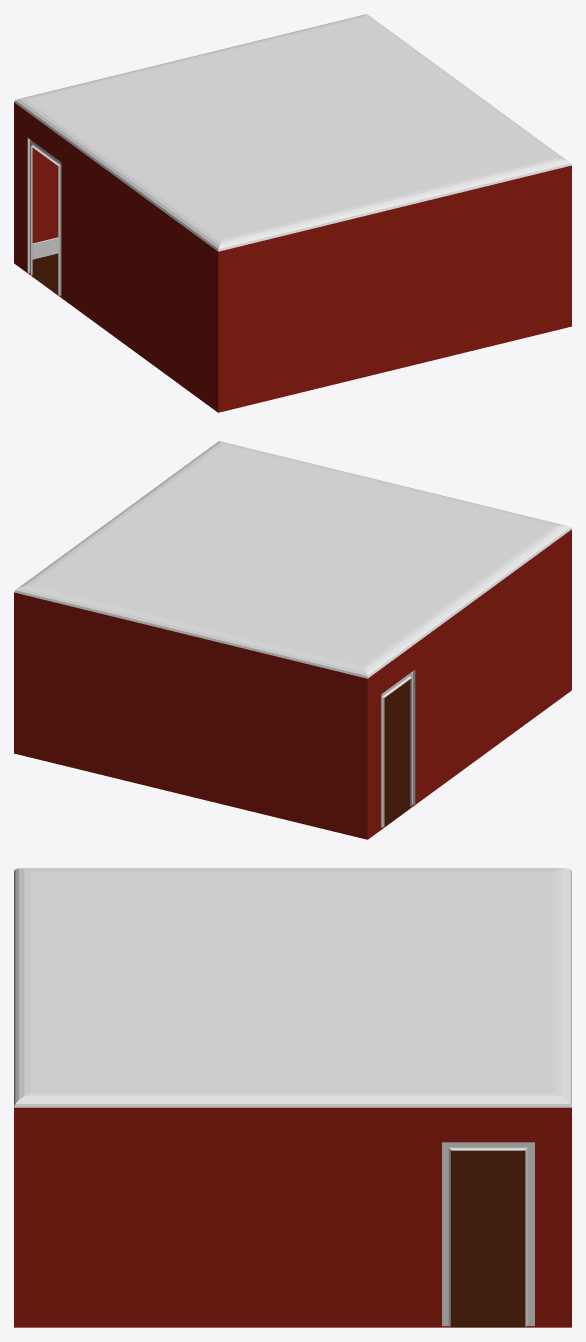
The model's file is Room.fbx.
The picture shows the model from 3 angles, top to bottom: view 1: azimuth 30°, elevation 25°; view 2: azimuth 150°, elevation 25°; view 3: azimuth 270°, elevation 25°; orthographic projection. The views are drawn at different scales.
Parts seen in each view (by area): view 1: Cube; view 2: Cube; view 3: Cube.
Part boxes in pixels (left/top/right/bottom): Cube: left=14, top=14, right=571, bottom=412; Cube: left=14, top=441, right=571, bottom=839; Cube: left=14, top=868, right=571, bottom=1327.
Size of the model in its own units: 600 by 270 by 600.
